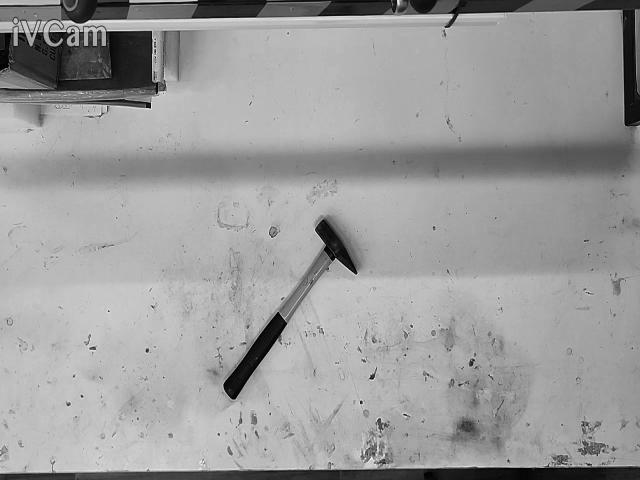Hammer: (224, 220, 358, 399)
